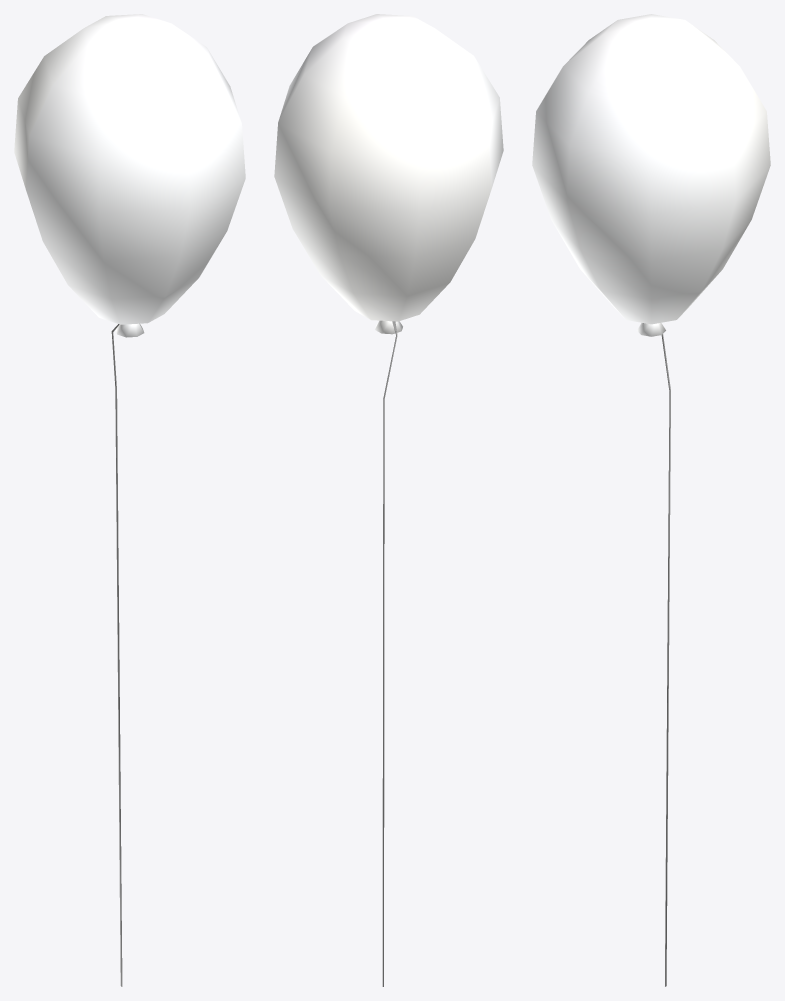
The model's file is BalloonWhite.glb.
The picture shows the model from 3 angles, left to right: view 1: azimuth 30°, elevation 25°; view 2: azimuth 150°, elevation 25°; view 3: azimuth 270°, elevation 25°; orthographic projection.
Parts seen in each view (by area): view 1: BalloonWhite; view 2: BalloonWhite; view 3: BalloonWhite.
Boxes of the visible parts, x1,y1,x2,y2 form: BalloonWhite: (14,14,245,986); BalloonWhite: (274,14,503,986); BalloonWhite: (532,14,770,986).
Size of the model in its own units: 0.5007 by 2.23 by 0.5007.
1 material, 1 textured.
